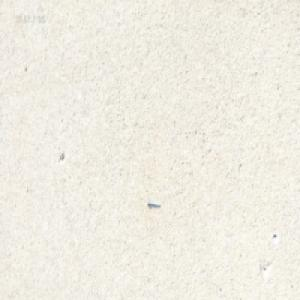Nail: (146, 199, 159, 208)
